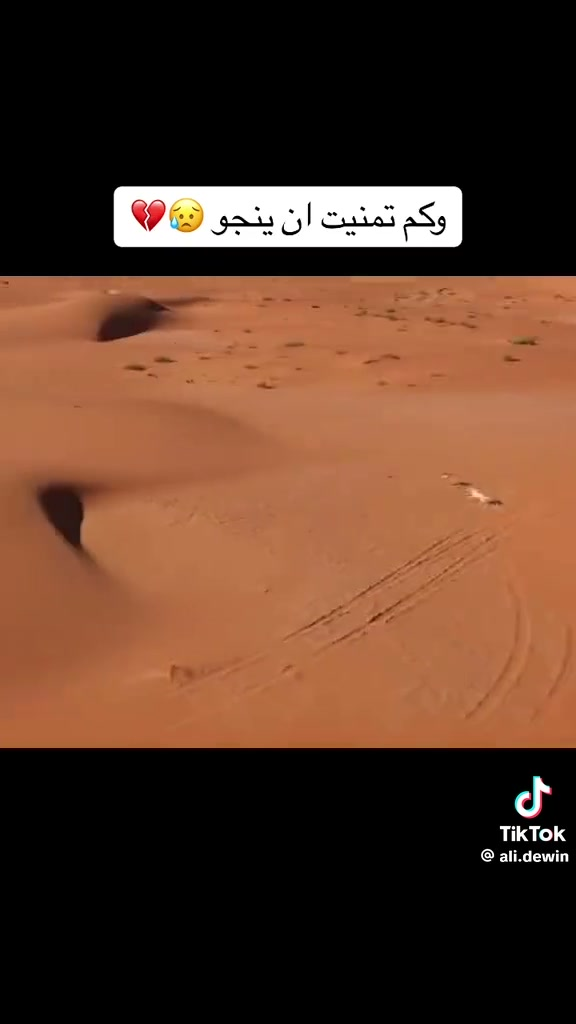animal: (455, 463, 506, 508)
vehicle_track: (200, 531, 497, 696), (198, 531, 479, 684), (284, 531, 478, 639), (326, 534, 496, 645), (464, 582, 531, 719), (532, 625, 573, 718)
